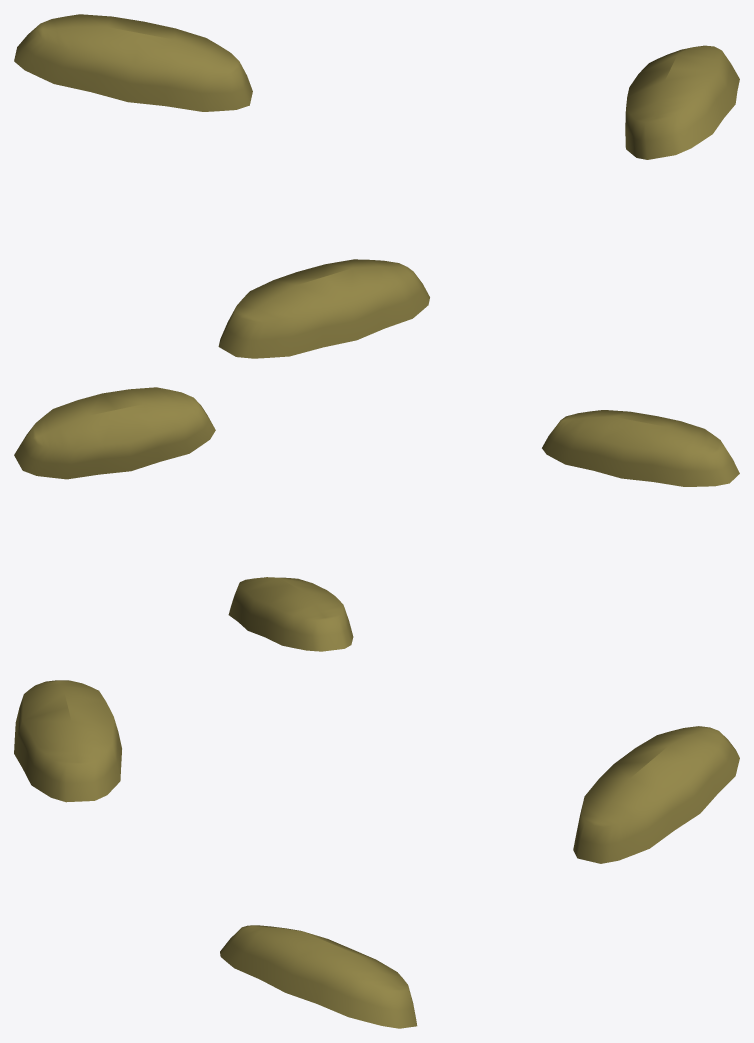
Rendered from planted_seeds.fbx.
3 renders of one model, top to bottom at view 1: azimuth 30°, elevation 25°; view 2: azimuth 150°, elevation 25°; view 3: azimuth 270°, elevation 25°, orthographic. The views are drawn at different scales.
Visible parts, largest first — view 1: Seeds; view 2: Seeds; view 3: Seeds.
Boxes of the visible parts, x1,y1,x2,y2 form: Seeds: (14, 14, 739, 358); Seeds: (14, 387, 739, 651); Seeds: (14, 680, 739, 1028).
Bounding box in the file's own units: 0.4588 × 0.0447 × 0.4385.
